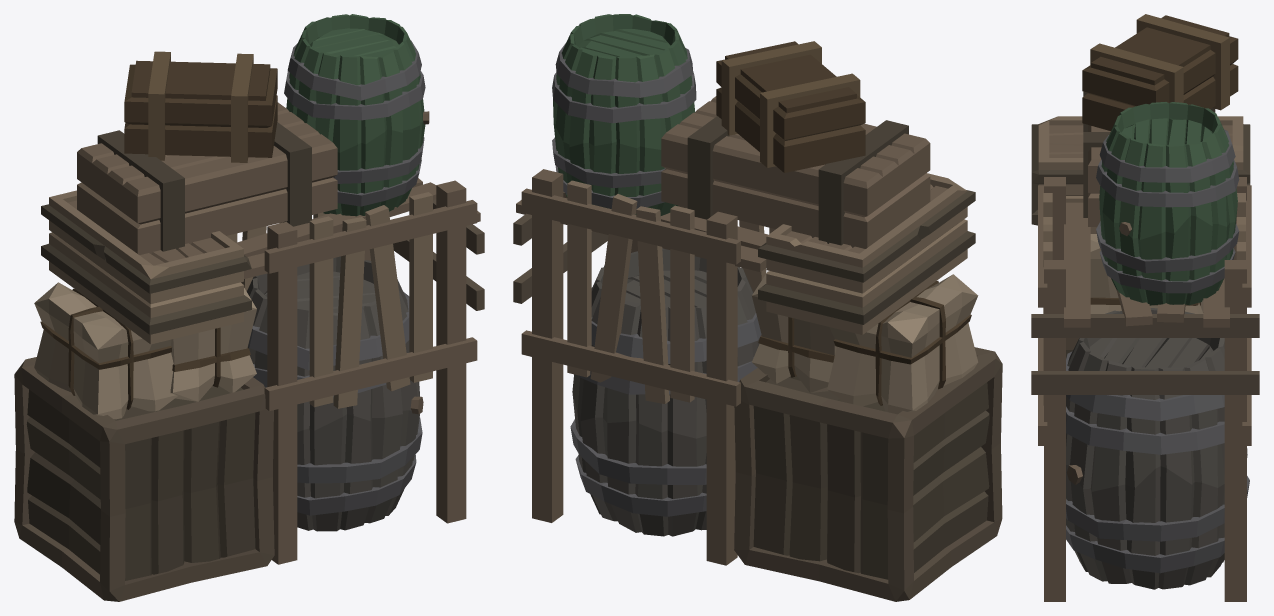
The model's file is SM_Prop_Stack_02.glb.
3 views of the same model, side by side, from view 1: azimuth 30°, elevation 25°; view 2: azimuth 150°, elevation 25°; view 3: azimuth 270°, elevation 25° (orthographic). The views are drawn at different scales.
Parts seen in each view (by area): view 1: SM_Prop_Stack_02; view 2: SM_Prop_Stack_02; view 3: SM_Prop_Stack_02.
Part boxes in pixels (left/top/right/bottom): SM_Prop_Stack_02: left=14, top=14, right=484, bottom=601; SM_Prop_Stack_02: left=513, top=14, right=1002, bottom=601; SM_Prop_Stack_02: left=1031, top=14, right=1259, bottom=601.
Size of the model in its own units: 0.0193 by 0.022 by 0.00998.
